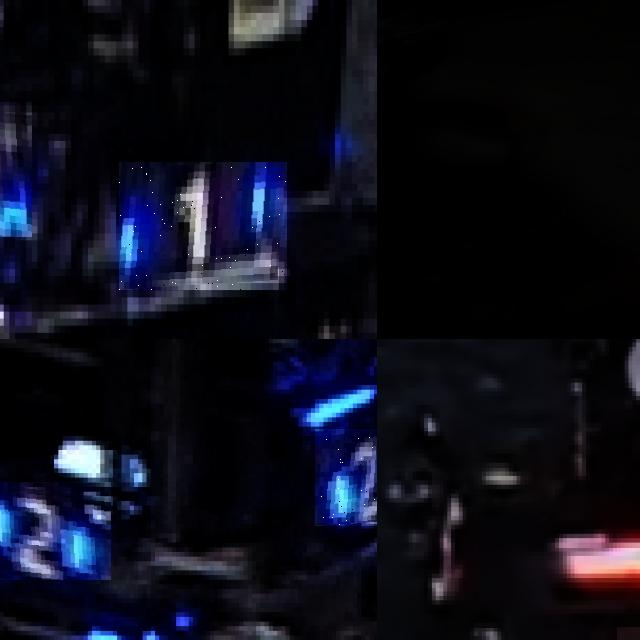B1: (119, 162, 287, 290), (0, 102, 32, 237)
B2: (0, 482, 110, 579), (315, 428, 377, 526)
